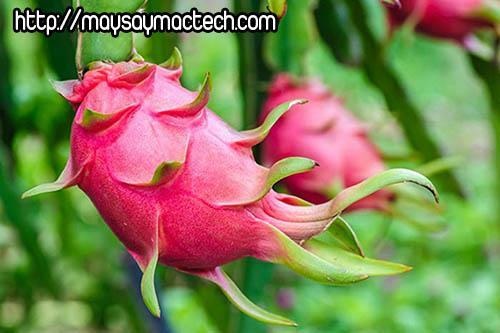dragon-fruit: (68, 60, 272, 271), (258, 78, 392, 215)
